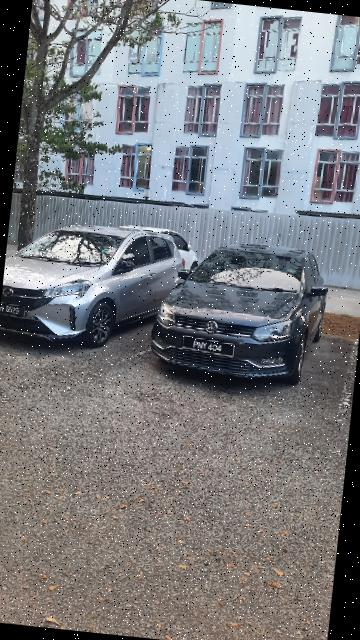License_Plate: (181, 333, 241, 361)
car: (148, 232, 335, 394)
